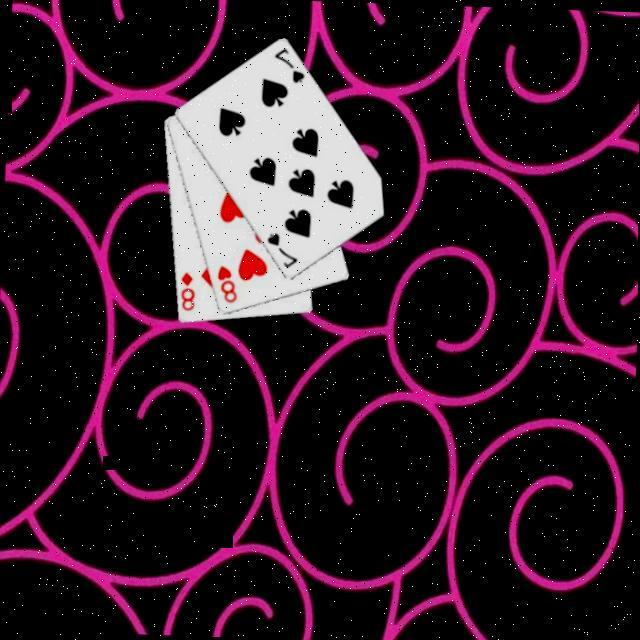7S: (271, 43, 310, 84), (264, 227, 301, 269)
8D: (177, 266, 199, 313)
8H: (214, 261, 241, 304)
